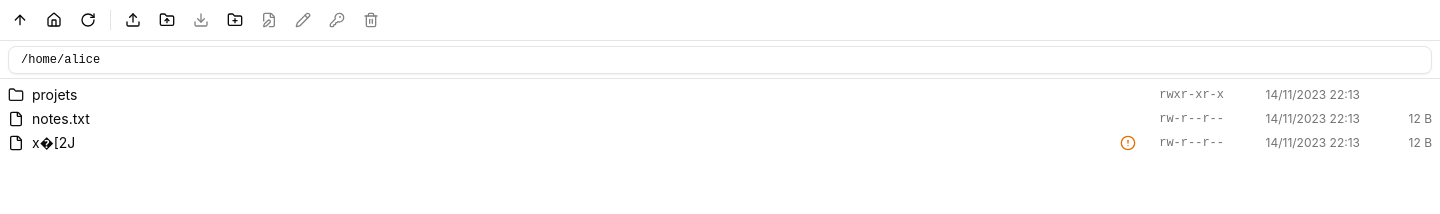
it: RemoteBrowser › refuse un chemin relatif saisi dans la barre d’adresse
The image size is (1440, 214).
Replace the text in the field named "Chemin distant" with "etc": (720, 60) [8,46,1432,74]
Then press Enter
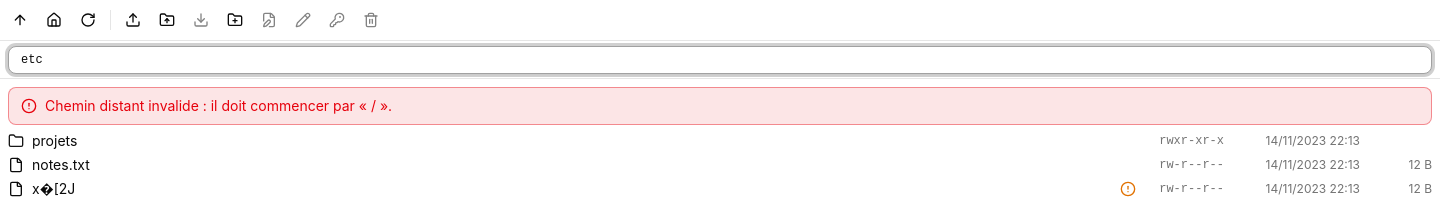
expect the message shows "doit commencer par « / »": met, box [45,97,392,114]
